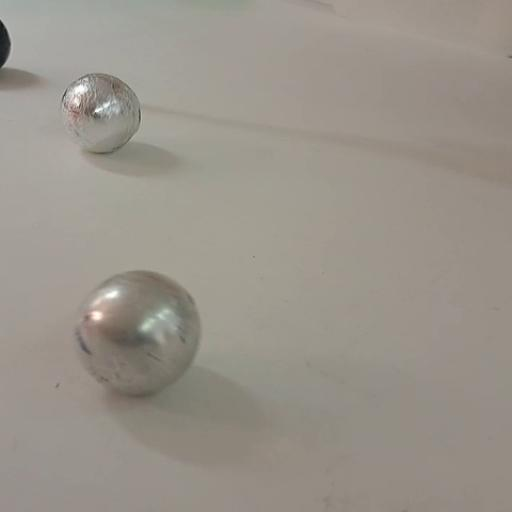alive: (73, 266, 206, 400), (58, 73, 140, 153)
dead: (0, 16, 11, 68)
